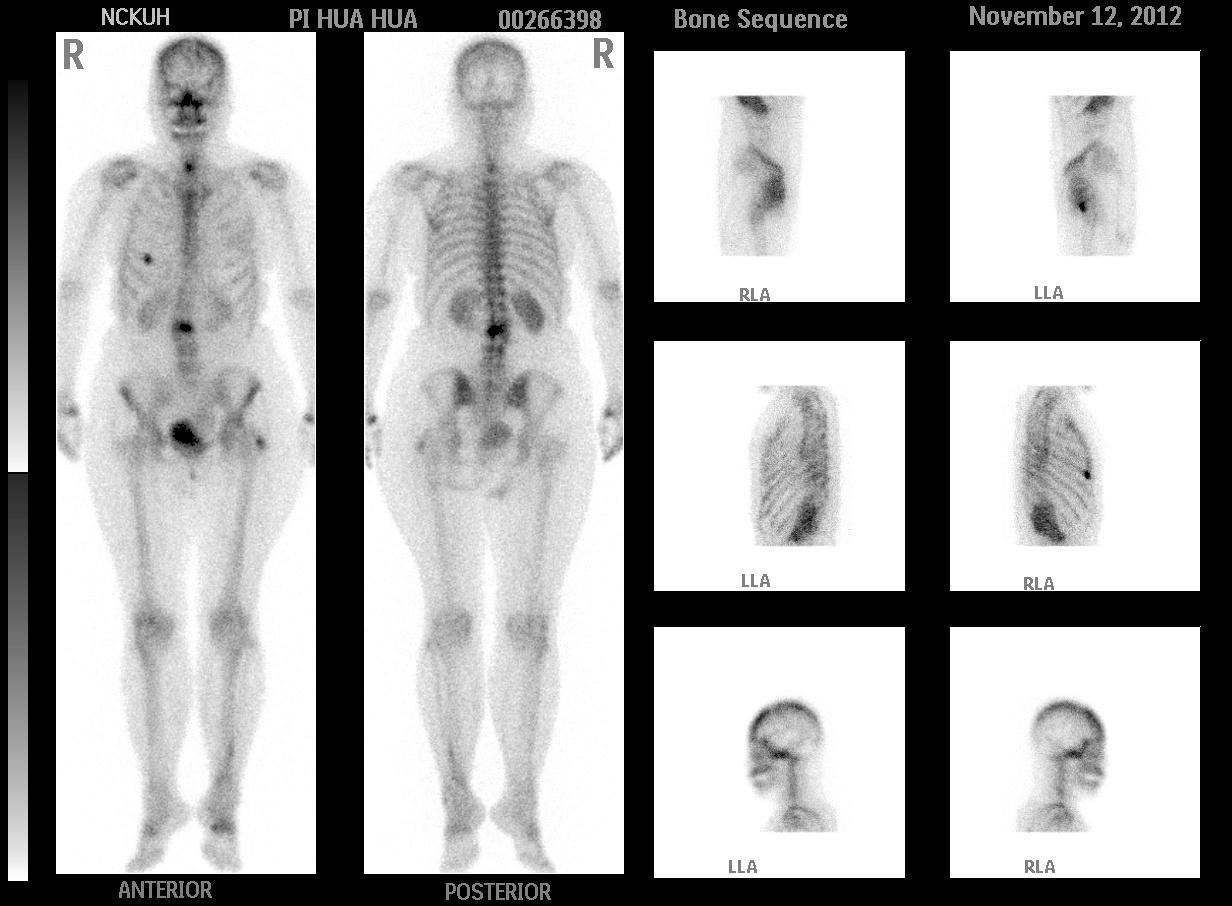person: (54, 32, 625, 875)
